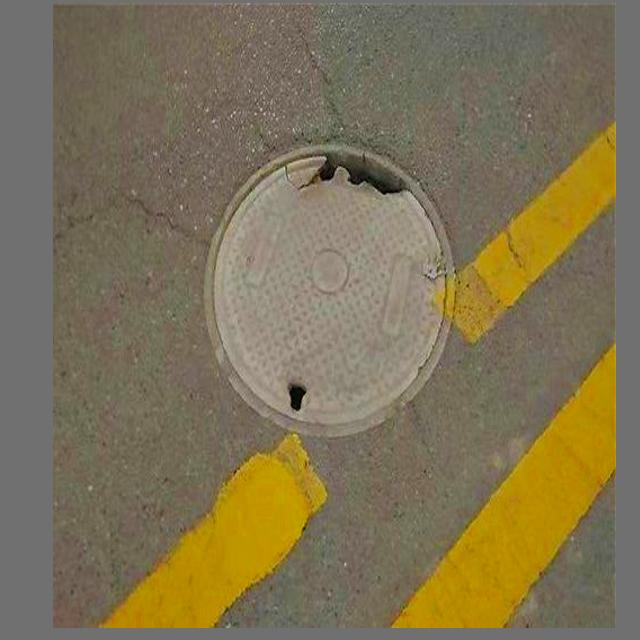broke: (197, 128, 460, 443)
